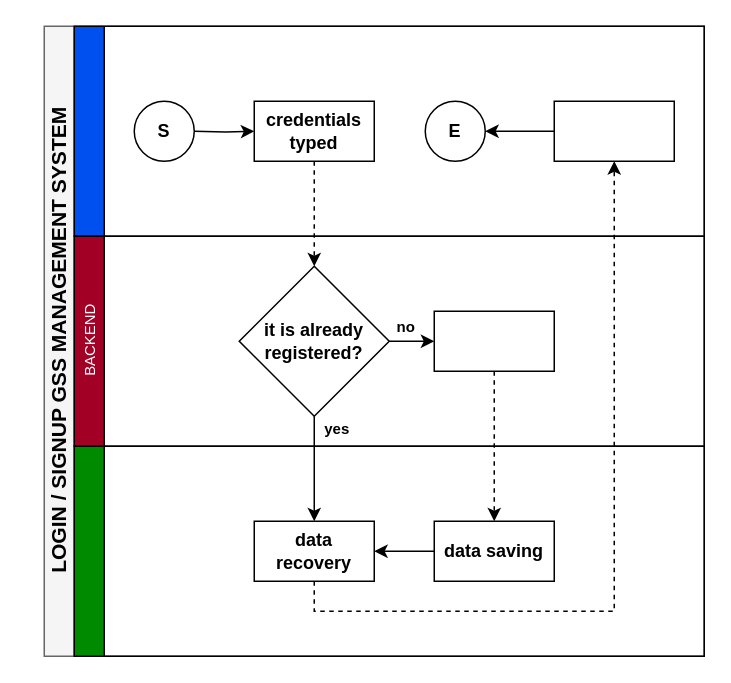
This 731x683 diagram has some shape labels left out. The box of each missing label's shape, as (x1, y1, x2, y2) in pixels:
DATABASE: (73, 445, 704, 656)
FRONTEND: (73, 25, 704, 236)
new account created: (433, 310, 554, 371)
site access: (553, 100, 674, 161)
